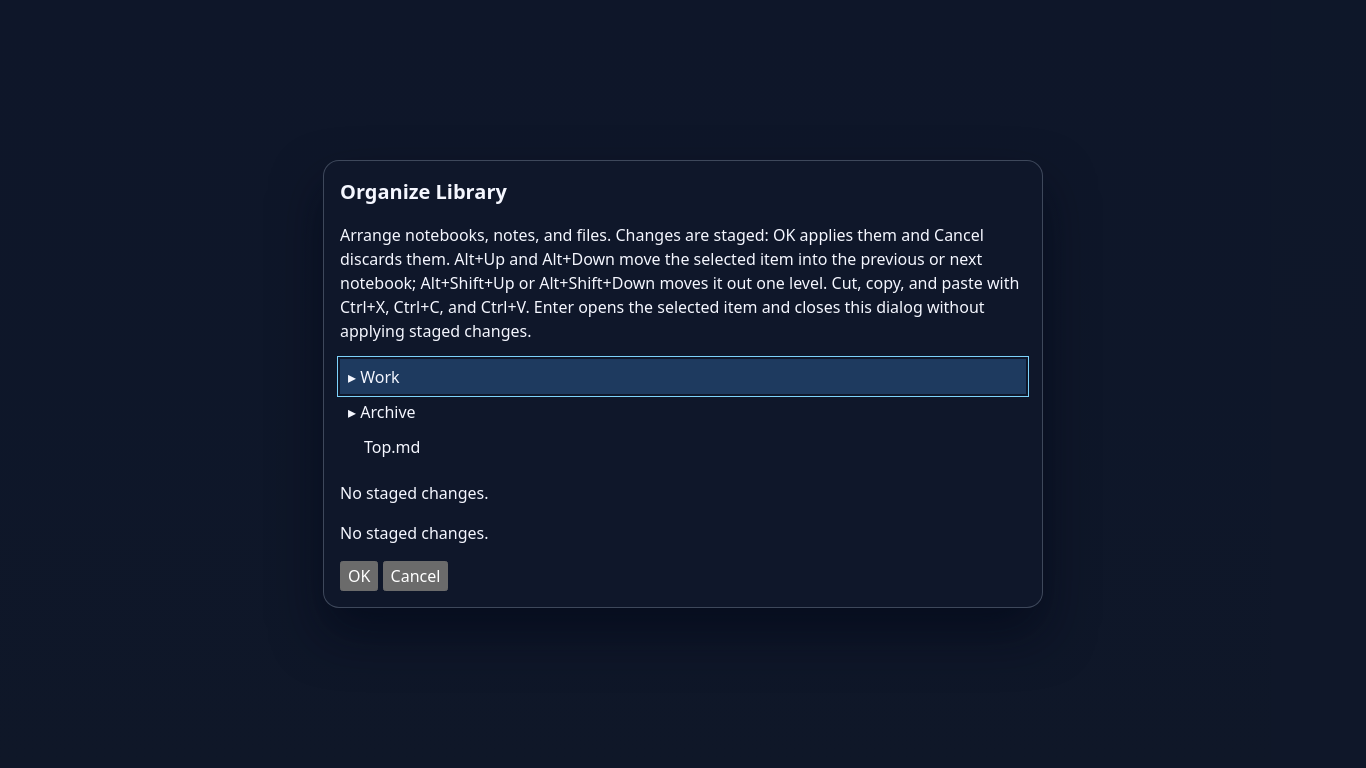
Scenario: organize library dialog › aborts the staged change when Cancel is pressed in the protected dialog
The image size is (1366, 768).
Press ArrowRight in the list item "▸ Work", box [340,359,1026,394]
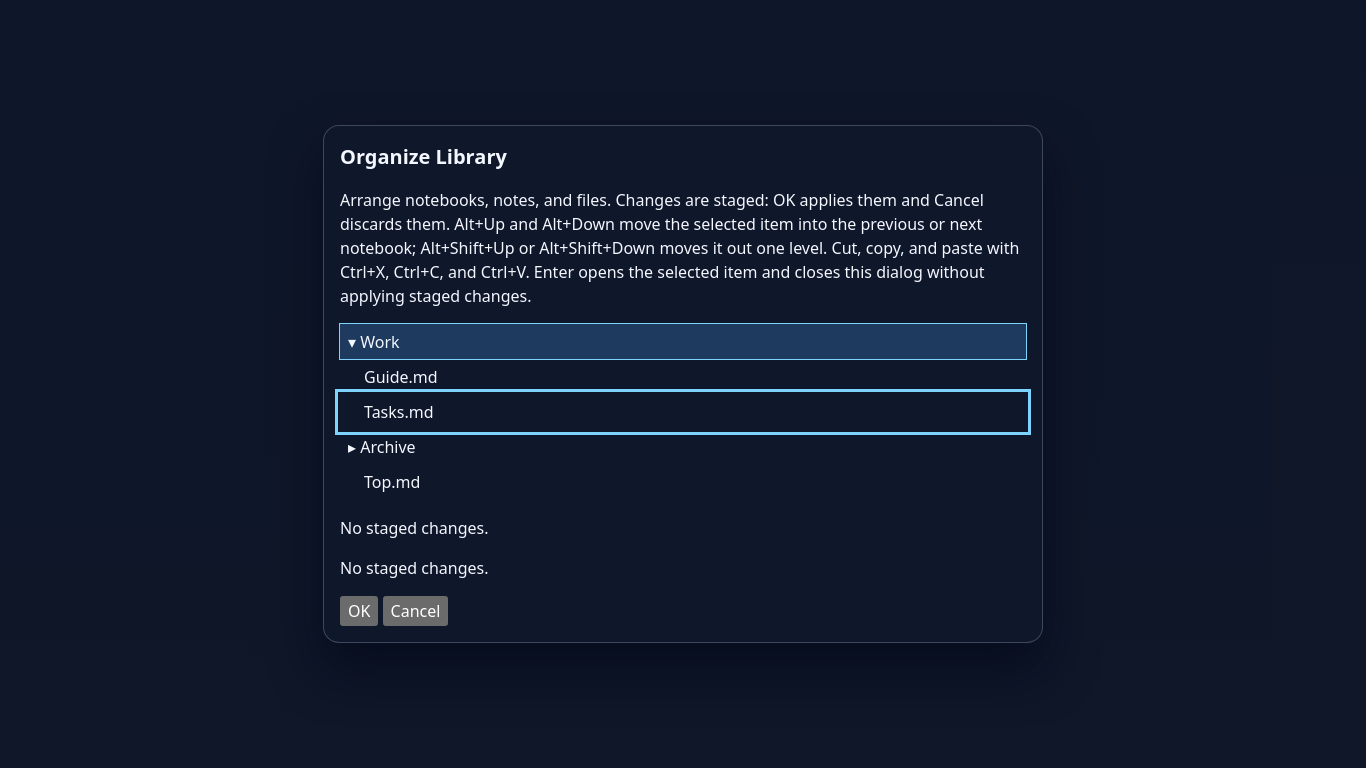
Now the list item "Guide.md" is shown, box [364,365,480,388]
Press ArrowDown in the list item "Tasks.md", box [364,400,557,423]
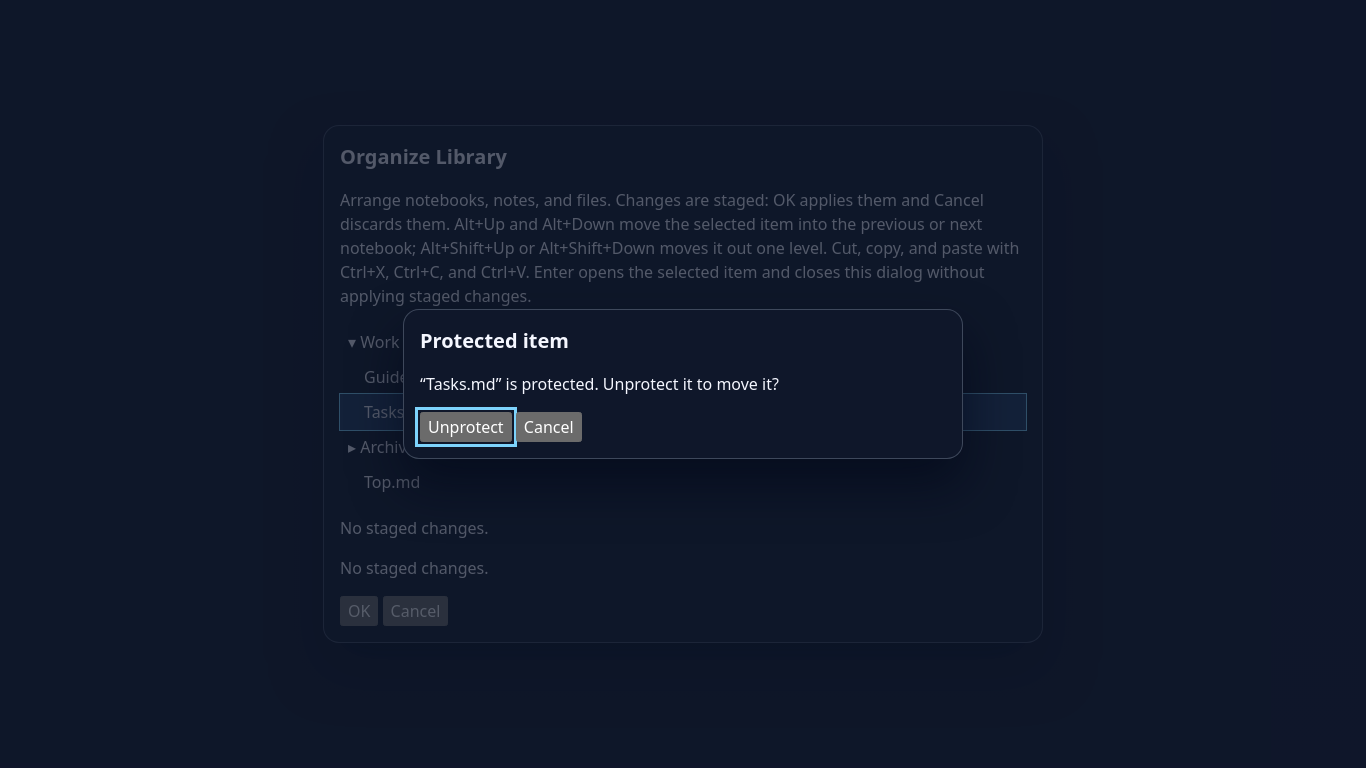
Click the button "Cancel" below "” is protected. Unprotect it to".
click(549, 427)  # box [516,412,582,442]
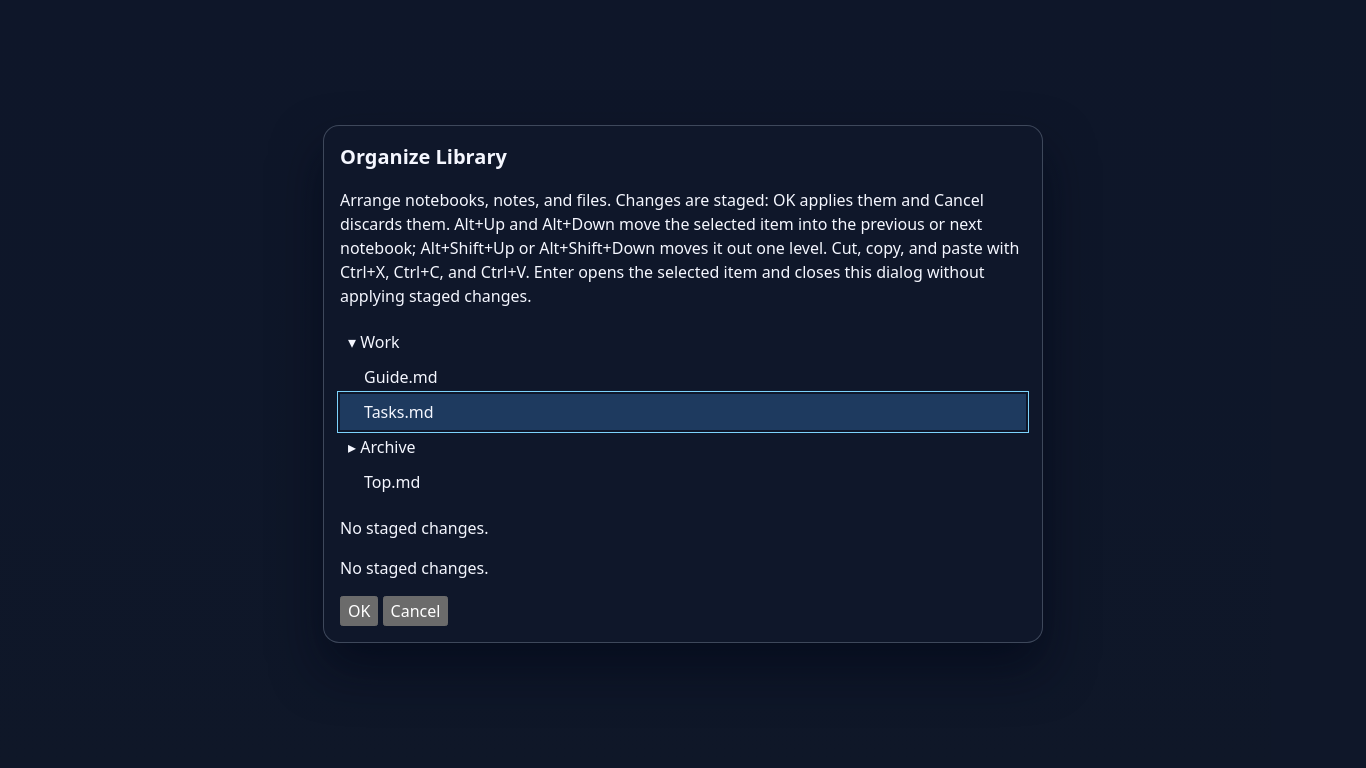
Expected: the message reads "No staged changes.", [340,557,488,579]
Now the heading "Protected item" is gone
